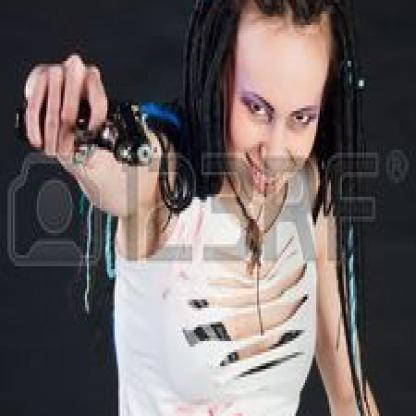gun: (9, 66, 168, 178)
